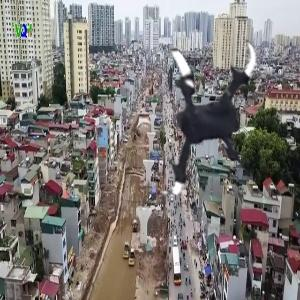drone: (110, 21, 289, 200)
